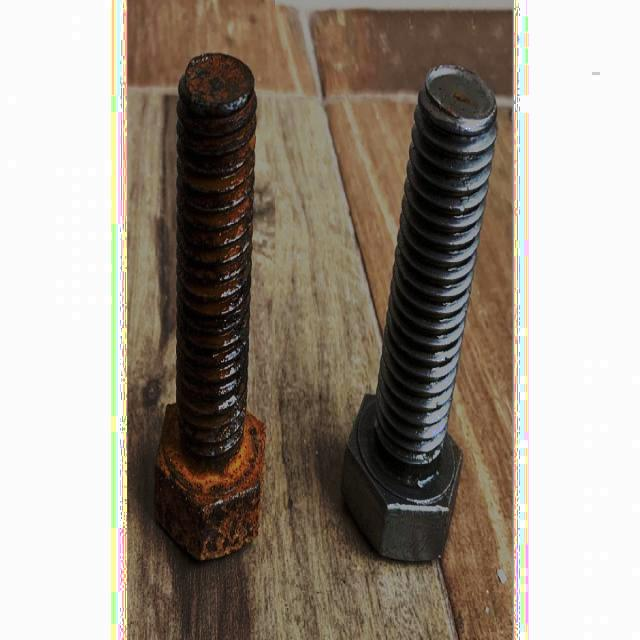Corrosion: (152, 52, 267, 562), (452, 90, 476, 111)
